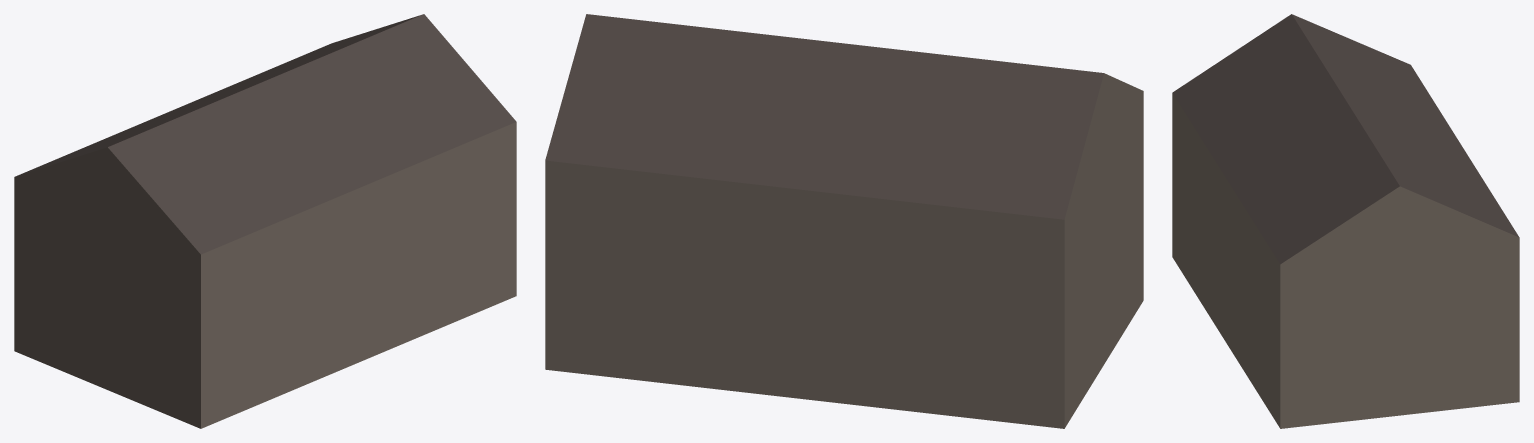
The picture shows the model from 3 angles, left to right: view 1: azimuth 30°, elevation 25°; view 2: azimuth 150°, elevation 25°; view 3: azimuth 270°, elevation 25°; orthographic projection. The views are drawn at different scales.
Visible parts, largest first — view 1: HP-w1198843251; view 2: HP-w1198843251; view 3: HP-w1198843251.
Boxes of the visible parts, x1,y1,x2,y2 form: HP-w1198843251: (14, 14, 516, 428); HP-w1198843251: (545, 14, 1143, 428); HP-w1198843251: (1172, 14, 1519, 428).
Bounding box in the file's own units: 15.61 × 8.36 × 11.48.
